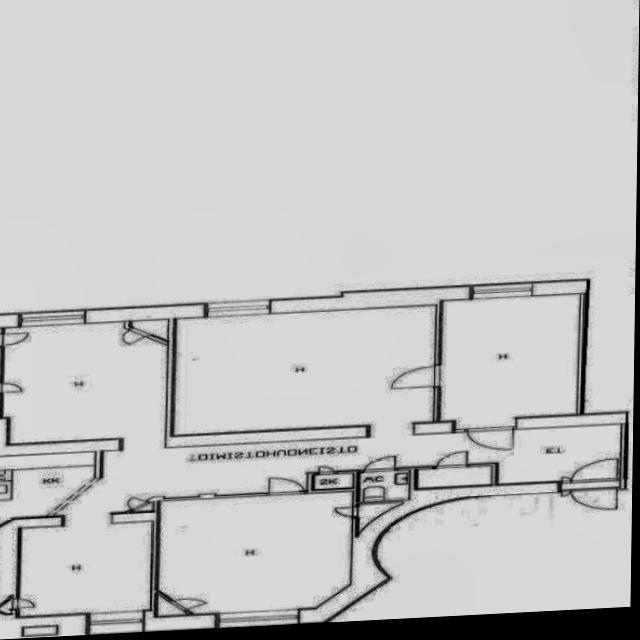room: (152, 491, 359, 616), (436, 294, 590, 430), (347, 484, 403, 532), (417, 466, 491, 488), (359, 471, 410, 501), (148, 595, 186, 629), (157, 594, 187, 616), (313, 474, 353, 490), (0, 599, 11, 613)
